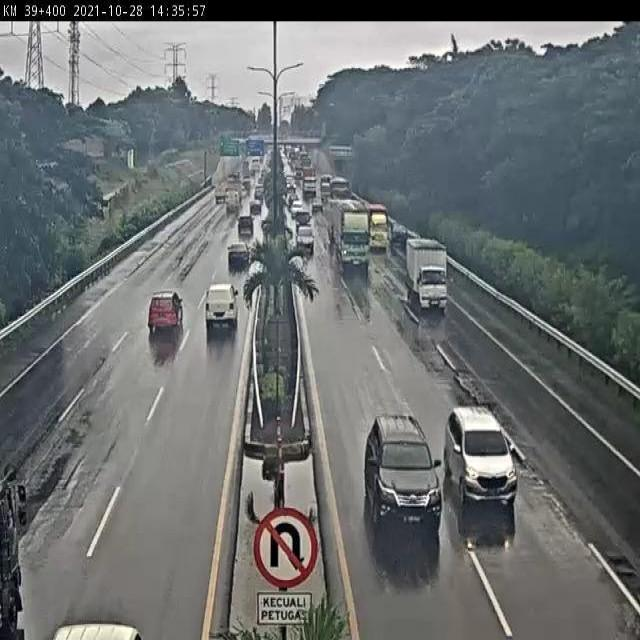big truck: (327, 194, 370, 282)
car: (372, 416, 439, 536), (451, 410, 527, 514), (199, 283, 241, 337), (145, 290, 180, 342), (293, 214, 321, 254), (235, 216, 260, 243), (229, 244, 249, 267), (293, 201, 301, 216)
small truck: (411, 240, 450, 317), (369, 210, 396, 262)
